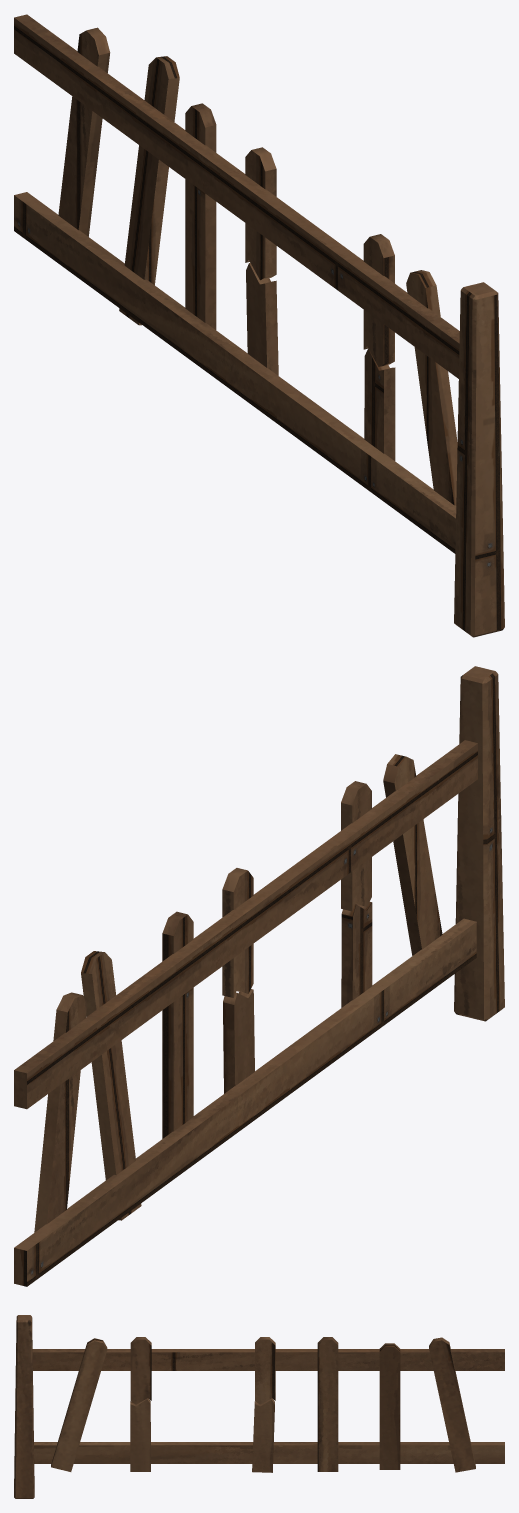
The model's file is fence_bashable.fbx.
3 renders of one model, top to bottom at view 1: azimuth 30°, elevation 25°; view 2: azimuth 150°, elevation 25°; view 3: azimuth 270°, elevation 25°, orthographic. The views are drawn at different scales.
Parts seen in each view (by area): view 1: fence_bashable; view 2: fence_bashable; view 3: fence_bashable.
Part boxes in pixels (box(x1,y1,x2,y2)): fence_bashable: box(14, 14, 504, 637); fence_bashable: box(14, 666, 504, 1286); fence_bashable: box(14, 1315, 504, 1498).
Size of the model in its own units: 1.69 by 9.44 by 23.66.
Materials: 1 (1 with a texture image).
